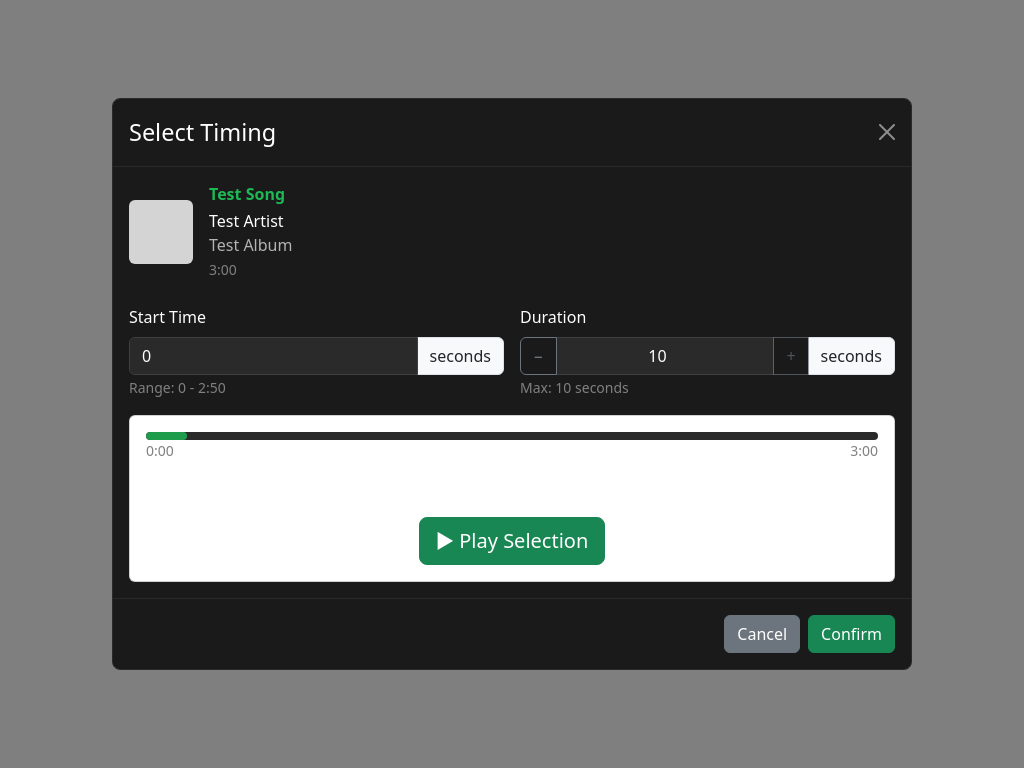
Test: SegmentSelector › should show different selection button text when playing
This screenshot has width=1024, height=768.
Click the button "▶ Play Selection": (512, 541) [419,517,605,565]
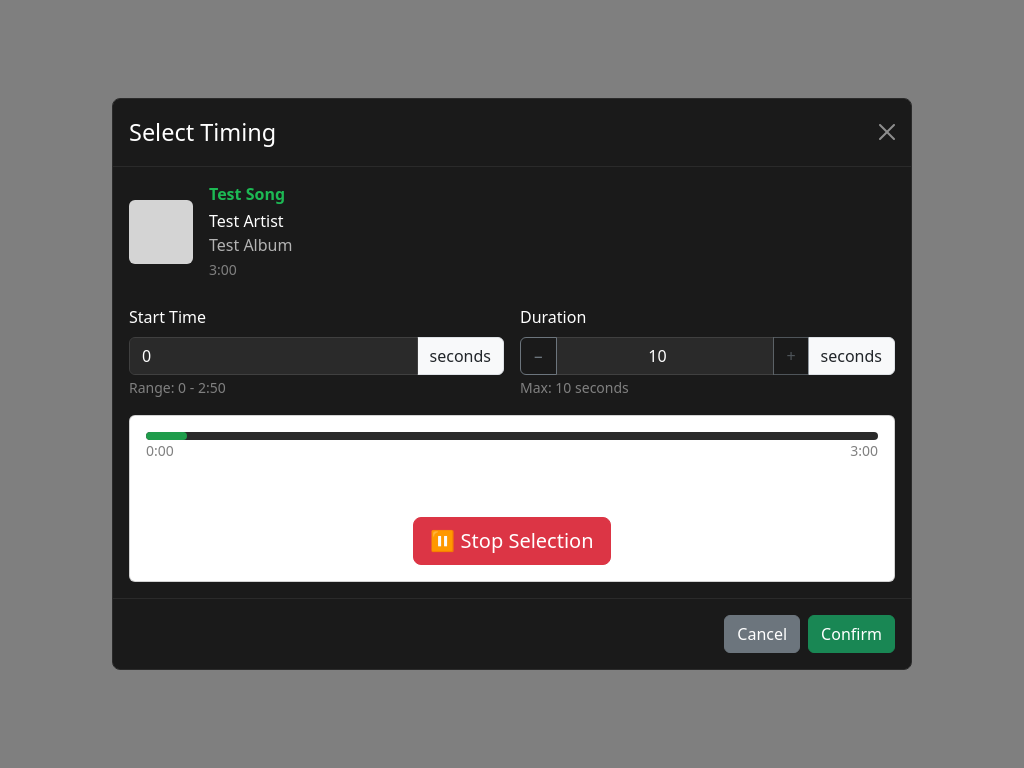
Now the button "⏸ Stop Selection" is shown, box [413,517,610,565]
